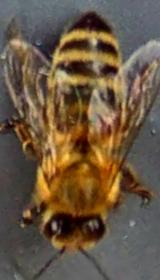varroa_mite: (89, 108, 130, 136)
